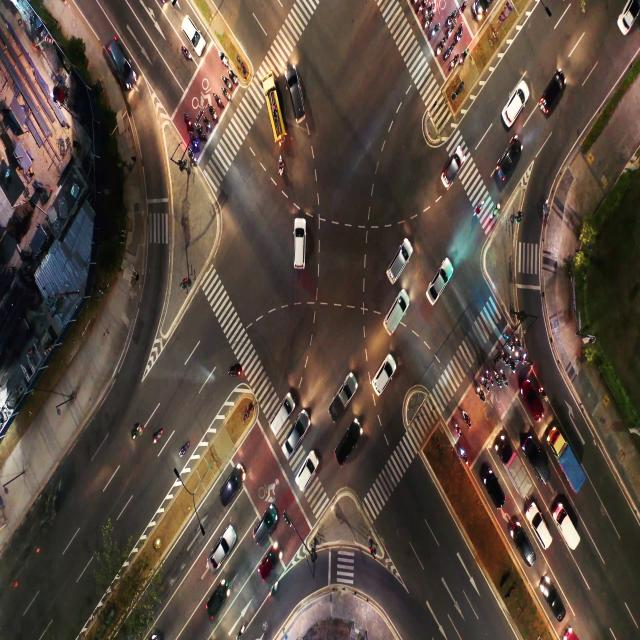bus: (268, 107, 281, 124)
car: (290, 75, 308, 119), (390, 243, 408, 282), (209, 582, 228, 610), (505, 93, 525, 118), (432, 268, 445, 304), (375, 366, 391, 394), (524, 390, 541, 416), (444, 155, 458, 186), (540, 87, 556, 112), (386, 310, 402, 334), (210, 540, 227, 562), (114, 50, 128, 76), (337, 441, 350, 465), (488, 474, 500, 500), (548, 586, 560, 612), (269, 418, 284, 438), (499, 157, 511, 182), (534, 515, 546, 540), (184, 18, 196, 42), (254, 517, 267, 537), (283, 435, 297, 453), (536, 453, 548, 472), (296, 242, 304, 269), (260, 559, 270, 580), (298, 467, 308, 488), (221, 488, 231, 506), (516, 536, 526, 552)
motorcycle: (181, 434, 191, 460), (225, 366, 244, 379), (268, 582, 282, 598), (239, 612, 248, 636), (156, 425, 165, 444), (134, 422, 142, 441), (278, 159, 284, 175), (438, 37, 445, 50), (476, 202, 483, 214), (492, 206, 499, 218), (542, 202, 547, 216), (503, 353, 508, 365), (416, 5, 421, 16), (477, 388, 482, 398), (462, 53, 467, 63), (205, 118, 209, 128), (210, 109, 215, 117), (223, 91, 228, 99), (464, 411, 468, 421), (501, 373, 506, 381), (540, 387, 544, 397), (184, 50, 188, 59), (185, 115, 189, 124), (190, 151, 194, 160), (217, 99, 221, 108), (509, 359, 513, 368), (515, 340, 520, 347), (428, 32, 435, 37), (448, 17, 453, 24), (199, 128, 203, 136), (222, 54, 226, 62), (484, 380, 488, 387), (508, 341, 512, 348), (524, 353, 528, 360), (224, 80, 228, 86), (462, 452, 465, 460), (447, 50, 451, 56), (450, 28, 453, 35), (425, 22, 428, 29), (459, 10, 463, 15), (192, 139, 195, 145), (455, 423, 458, 429), (458, 31, 460, 40), (231, 75, 234, 80), (452, 61, 455, 66), (425, 11, 428, 16), (496, 373, 498, 380), (516, 352, 518, 359), (486, 371, 488, 377)
truck: (508, 453, 522, 485), (334, 385, 350, 411), (560, 447, 574, 474), (564, 519, 574, 540)
